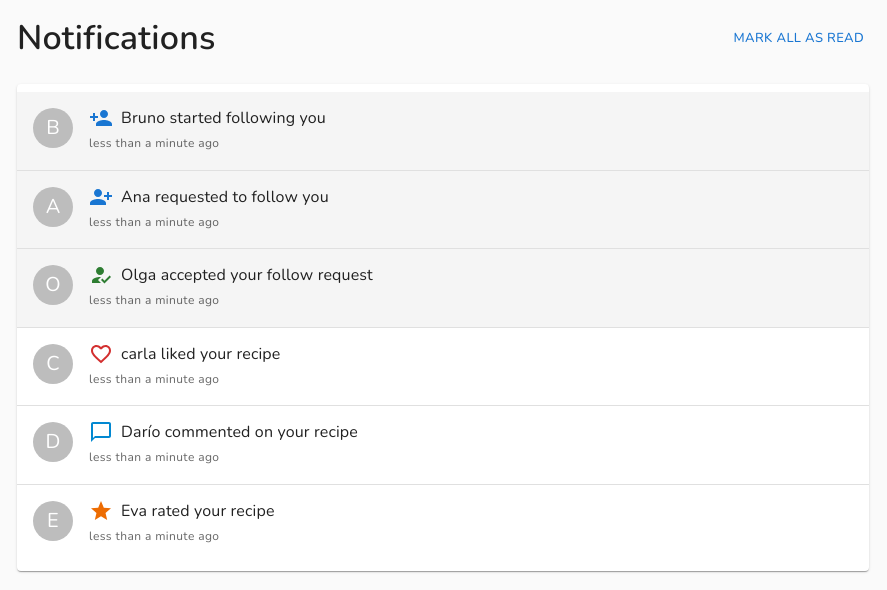
Test: /notifications › the rest of the page › marks everything read
Click the button "Mark all as read". click: click(799, 38)
box: [729,16,869,60]
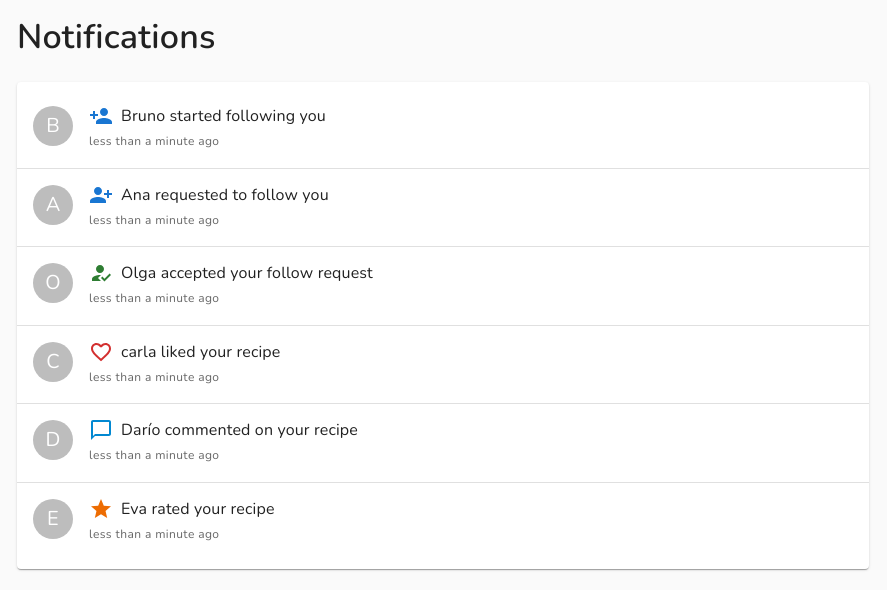
Check: the button "Mark all as read" is gone
